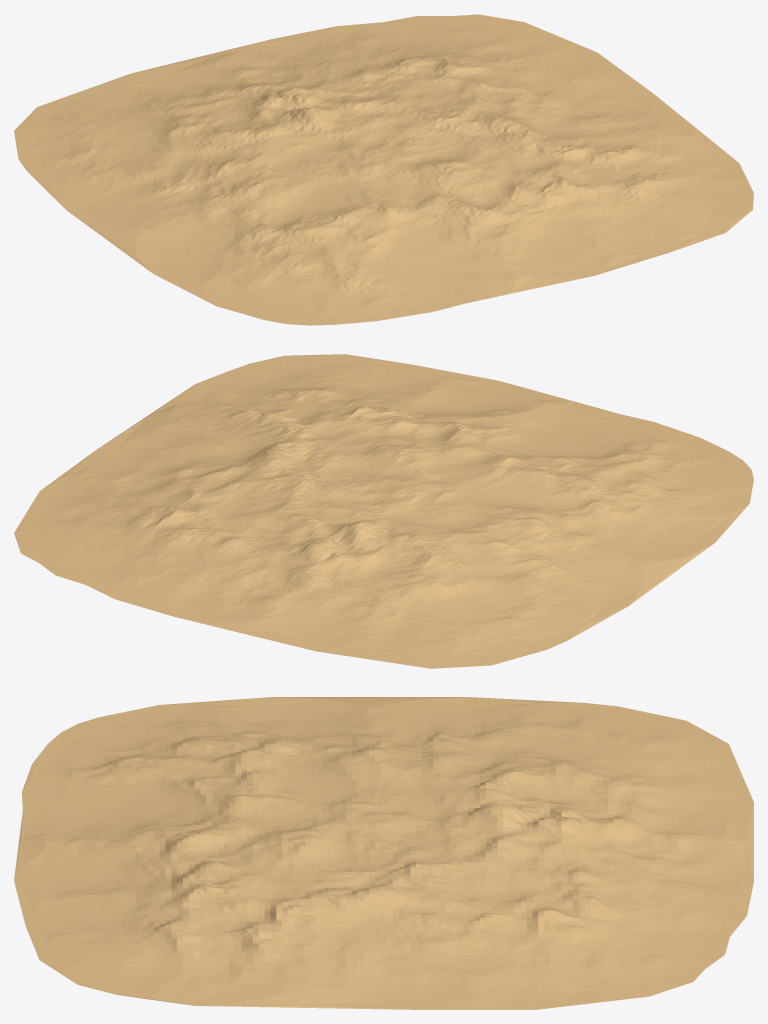
The model's file is MT_Island_H_c_04.fbx.
The picture shows the model from 3 angles, top to bottom: view 1: azimuth 30°, elevation 25°; view 2: azimuth 150°, elevation 25°; view 3: azimuth 270°, elevation 25°; orthographic projection. The views are drawn at different scales.
Parts seen in each view (by area): view 1: MT_Island_H_c_04; view 2: MT_Island_H_c_04; view 3: MT_Island_H_c_04.
Boxes of the visible parts, <box> form: MT_Island_H_c_04: <box>14,14,753,325</box>; MT_Island_H_c_04: <box>14,354,753,668</box>; MT_Island_H_c_04: <box>14,697,753,1009</box>.
Bounding box in the file's own units: 50000 × 2593 × 50000.
